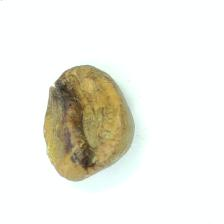NG: (45, 74, 102, 172)
